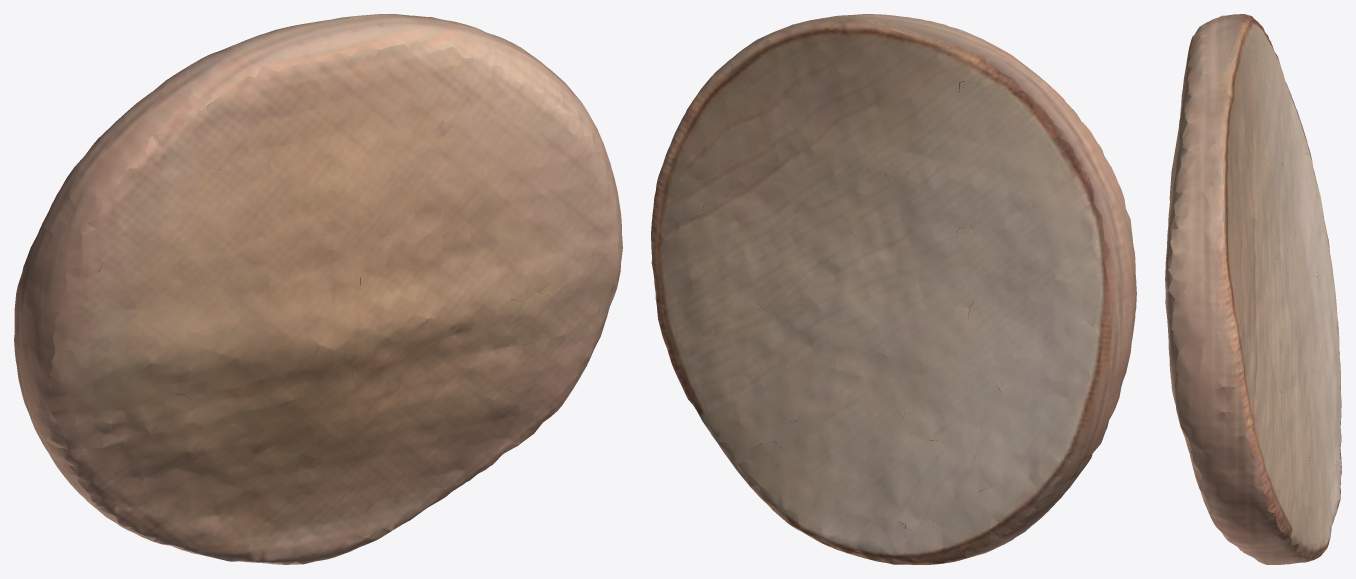
The model's file is 15_18_42_20_a-single-wooden-disc.glb.
3 renders of one model, left to right at view 1: azimuth 30°, elevation 25°; view 2: azimuth 150°, elevation 25°; view 3: azimuth 270°, elevation 25°, orthographic. The views are drawn at different scales.
Visible parts, largest first — view 1: world; view 2: world; view 3: world.
Part boxes in pixels (bbox=[...]): world: bbox=[14, 14, 622, 564]; world: bbox=[651, 14, 1136, 564]; world: bbox=[1165, 14, 1341, 564].
Bounding box in the file's own units: 0.8833 × 0.8571 × 0.2796.
1 material, 1 textured.
